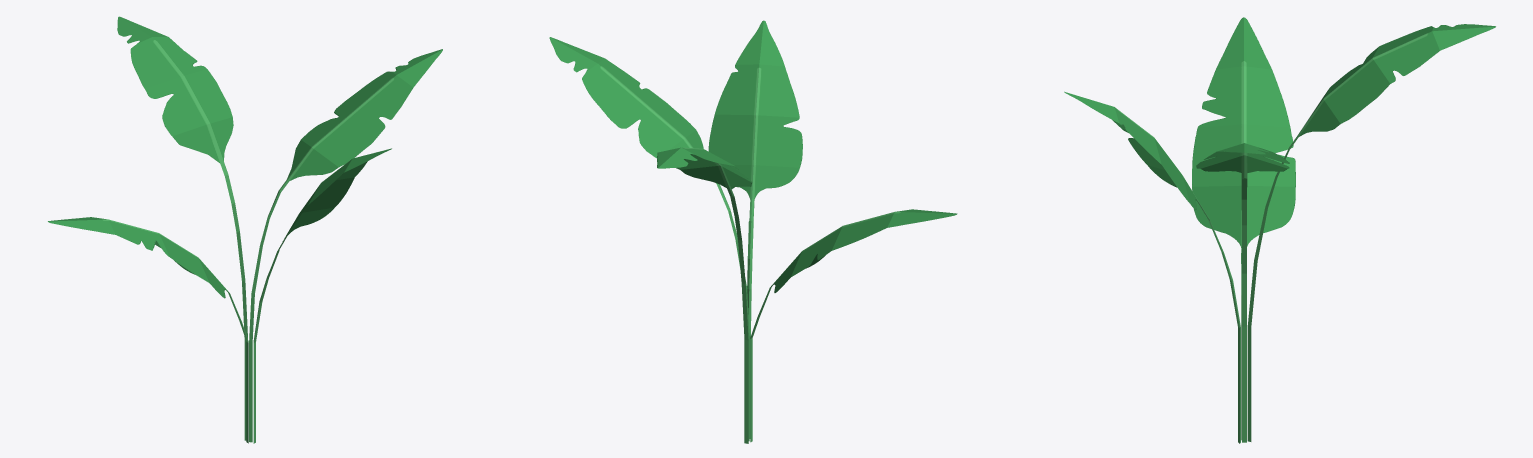
File: PlantOneVariantOne.fbx
3 views of the same model, side by side, from view 1: azimuth 30°, elevation 25°; view 2: azimuth 150°, elevation 25°; view 3: azimuth 270°, elevation 25° (orthographic). The views are drawn at different scales.
Parts seen in each view (by area): view 1: Circle; view 2: Circle; view 3: Circle.
Part boxes in pixels (<box>): Circle: <box>48,16,442,443</box>; Circle: <box>549,20,957,443</box>; Circle: <box>1064,17,1495,443</box>.
Bounding box in the file's own units: 4.81 × 3.84 × 4.3.
